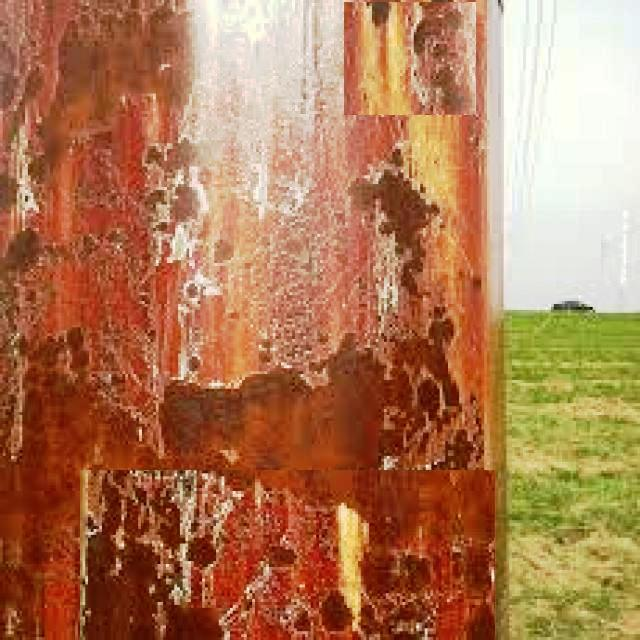Corrosion: (0, 0, 500, 640)
